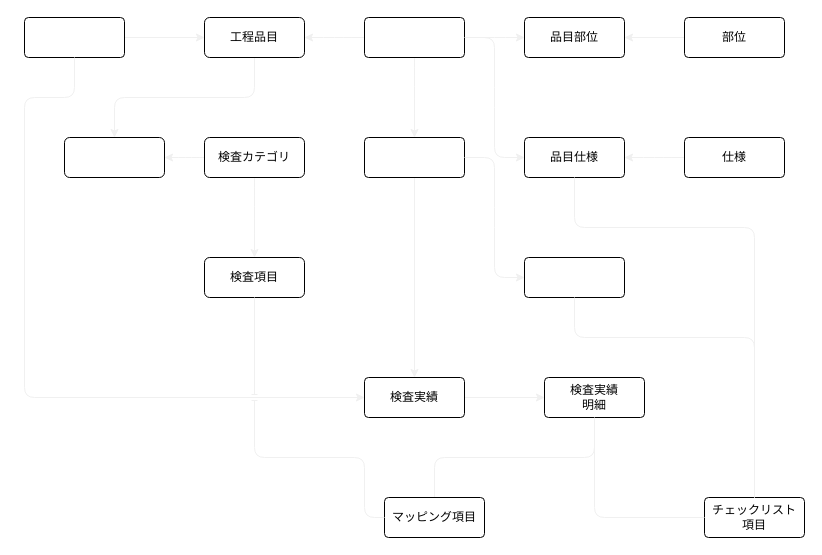
Image size: 822x555. Some labels were removed from this diagram. The centre of each missing label's shape, as x and y in pixels:
品目: the point at 414,37
専用仕様: the point at 574,277
工程: the point at 74,37
工程品目検査 カテゴリ: the point at 114,157
生産実績: the point at 414,157
